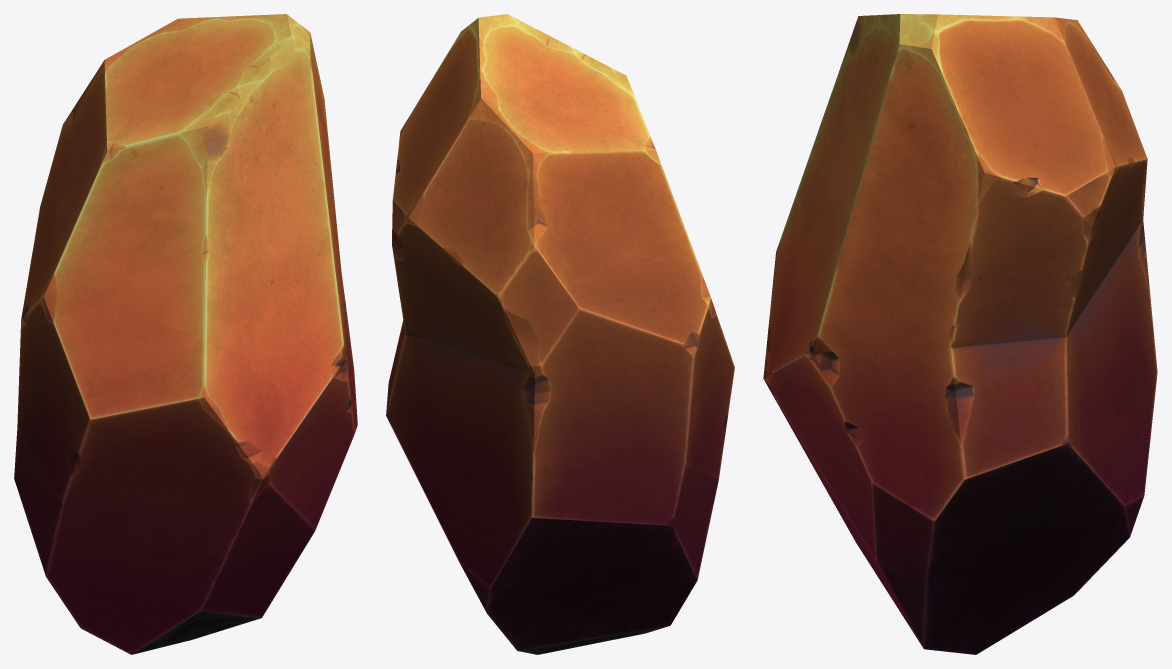
File: berg1.glb
3 renders of one model, left to right at view 1: azimuth 30°, elevation 25°; view 2: azimuth 150°, elevation 25°; view 3: azimuth 270°, elevation 25°, orthographic. The views are drawn at different scales.
Visible parts, largest first — view 1: L_Rock_05; view 2: L_Rock_05; view 3: L_Rock_05.
Part boxes in pixels (box(x1,y1,x2,y2)): L_Rock_05: box(14, 14, 357, 654); L_Rock_05: box(386, 14, 734, 654); L_Rock_05: box(763, 14, 1157, 654).
Bounding box in the file's own units: 1.39 × 2.54 × 1.33.
Materials: 1 (1 with a texture image).
